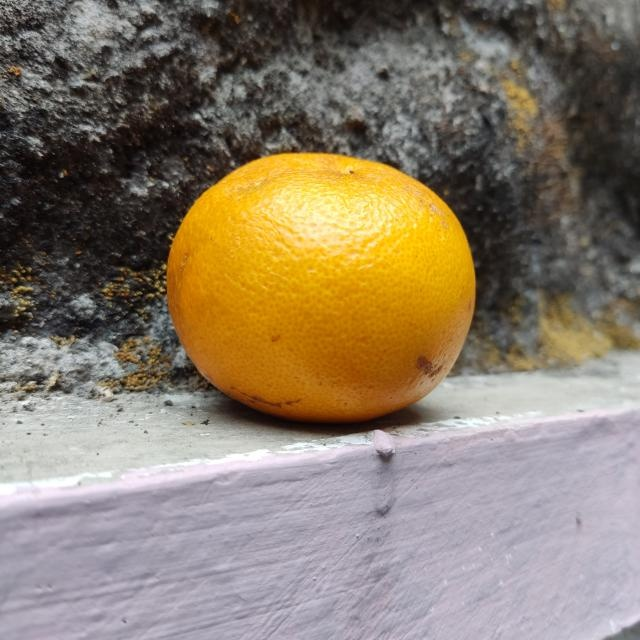agrume: (161, 147, 479, 437)
